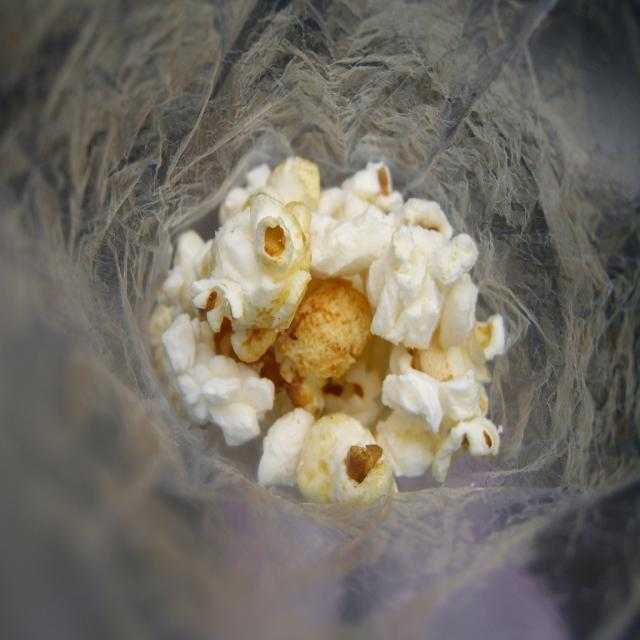Popcorn: (142, 163, 502, 511)
